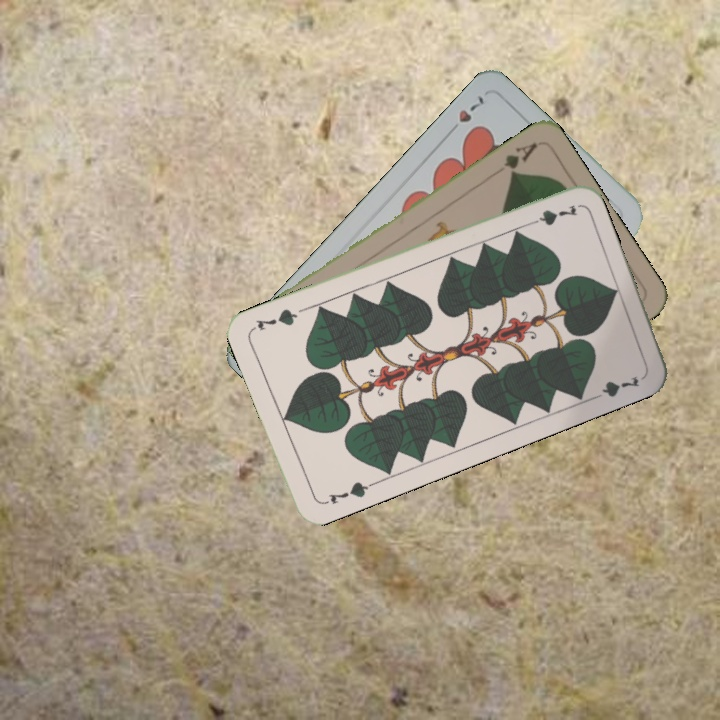G7: (319, 477, 376, 508), (521, 200, 580, 229)
GA: (500, 138, 540, 178)
H7: (443, 91, 487, 138)
